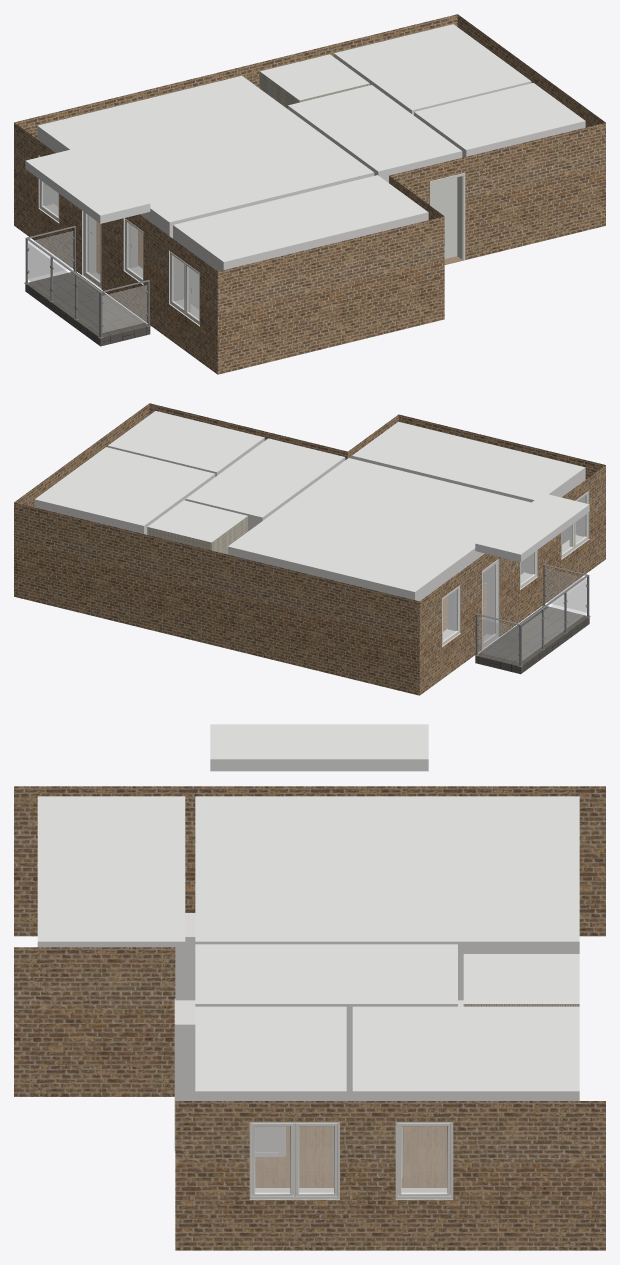
The model's file is apartment.gltf.
3 views of the same model, one above another, from view 1: azimuth 30°, elevation 25°; view 2: azimuth 150°, elevation 25°; view 3: azimuth 270°, elevation 25° (orthographic). The views are drawn at different scales.
Parts seen in each view (by area): view 1: wall_ext, ceil_living, ceil_vaer3, ceil_vaer1, ceil_entre, wall_altan, ceil_vaer2, balcony_above, balcony_slab, wall_vaer3, rail_w, wall_living (+13 smaller); view 2: wall_ext, ceil_living, ceil_vaer3, ceil_vaer1, ceil_entre, wall_altan, ceil_vaer2, balcony_above, wall_living, balcony_slab, rail_w, ceil_bad (+11 smaller); view 3: wall_ext, ceil_living, ceil_vaer3, ceil_vaer1, ceil_entre, ceil_vaer2, wall_altan, balcony_above, win_vaer2, ceil_bad, win_vaer1, wall_living (+7 smaller).
Part boxes in pixels (box(x1,y1,x2,y2)): wall_ext: box(14, 14, 605, 374); ceil_living: box(38, 75, 373, 222); ceil_vaer3: box(173, 175, 427, 261); ceil_vaer1: box(334, 24, 530, 110); ceil_entre: box(288, 85, 461, 171); wall_altan: box(14, 122, 217, 303); ceil_vaer2: box(414, 83, 585, 149); balcony_above: box(25, 148, 150, 223); balcony_slab: box(25, 272, 150, 346); wall_vaer3: box(169, 212, 428, 326); rail_w: box(24, 237, 103, 338); wall_living: box(37, 126, 374, 284); wall_ext: box(14, 403, 605, 695); ceil_living: box(228, 458, 530, 591); ceil_vaer3: box(352, 421, 584, 499); ceil_vaer1: box(35, 447, 214, 525); ceil_entre: box(186, 438, 344, 517); wall_altan: box(419, 465, 605, 695); ceil_vaer2: box(108, 411, 264, 472); balcony_above: box(475, 493, 589, 561); wall_living: box(228, 546, 538, 646); balcony_slab: box(475, 606, 589, 674); rail_w: box(518, 574, 589, 666); ceil_bad: box(148, 500, 247, 542); wall_ext: box(14, 786, 605, 1250); ceil_living: box(195, 796, 579, 941); ceil_vaer3: box(37, 796, 185, 941); ceil_vaer1: box(352, 1006, 579, 1091); ceil_entre: box(195, 944, 457, 1003); ceil_vaer2: box(195, 1006, 346, 1091); wall_altan: box(14, 786, 605, 936); balcony_above: box(210, 724, 428, 771); win_vaer2: box(249, 1122, 339, 1198); ceil_bad: box(463, 954, 579, 1003); win_vaer1: box(395, 1122, 453, 1198); wall_living: box(185, 913, 579, 1000).
Size of the model in its own units: 12.54 by 3.17 by 8.95.
51 materials, 46 textured.
